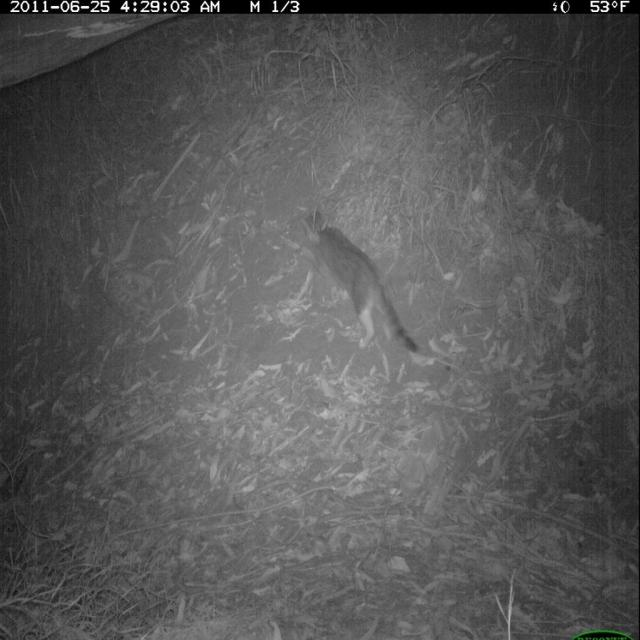cat: (293, 199, 438, 365)
